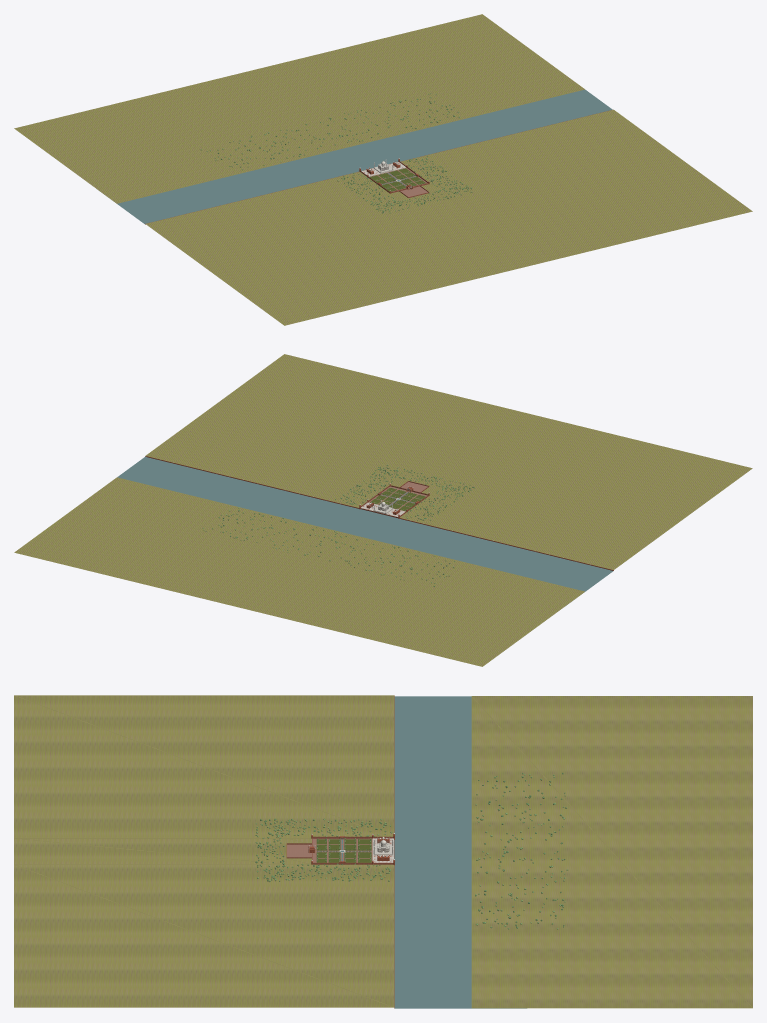
File: taj_mahal.glb
3 views of the same model, one above another, from view 1: azimuth 30°, elevation 25°; view 2: azimuth 150°, elevation 25°; view 3: azimuth 270°, elevation 25° (orthographic). The views are drawn at different scales.
Visible parts, largest first — view 1: Grounds, WATER, Trees; view 2: Grounds, WATER, Trees; view 3: Grounds, WATER, Trees, Walls.
Boxes of the visible parts, box(x1,y1,x2,y2) form: Grounds: box(14, 14, 752, 325); WATER: box(104, 89, 612, 224); Trees: box(201, 93, 472, 213); Grounds: box(14, 354, 752, 666); WATER: box(117, 456, 613, 605); Trees: box(202, 464, 474, 586); Grounds: box(14, 695, 752, 1008); WATER: box(317, 696, 526, 1008); Trees: box(255, 772, 567, 929); Walls: box(286, 833, 394, 865).
Bounding box in the file's own units: 3600 × 74.74 × 3600.
47 materials, 38 textured.
